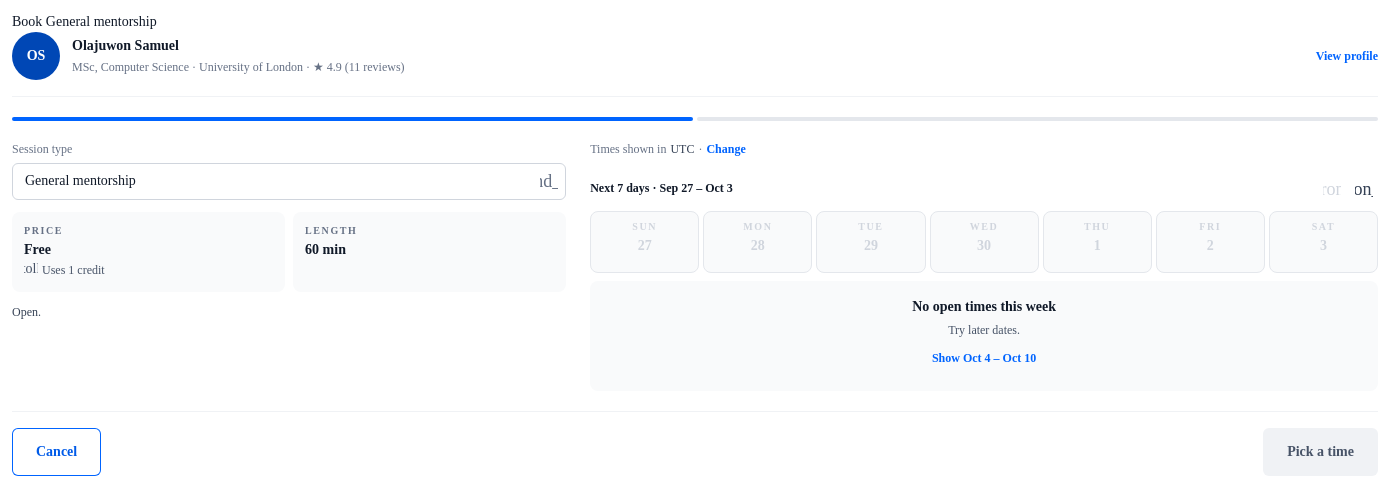
BookingFlow week view (7 days at a time) › opens on this week even when the first time is later, and ‹ › reach it
Expected: the text "No open times this week" is shown, [912,298,1056,318]
Click the button with aria-label "Later dates": [1364, 189] box [1350,175,1378,203]
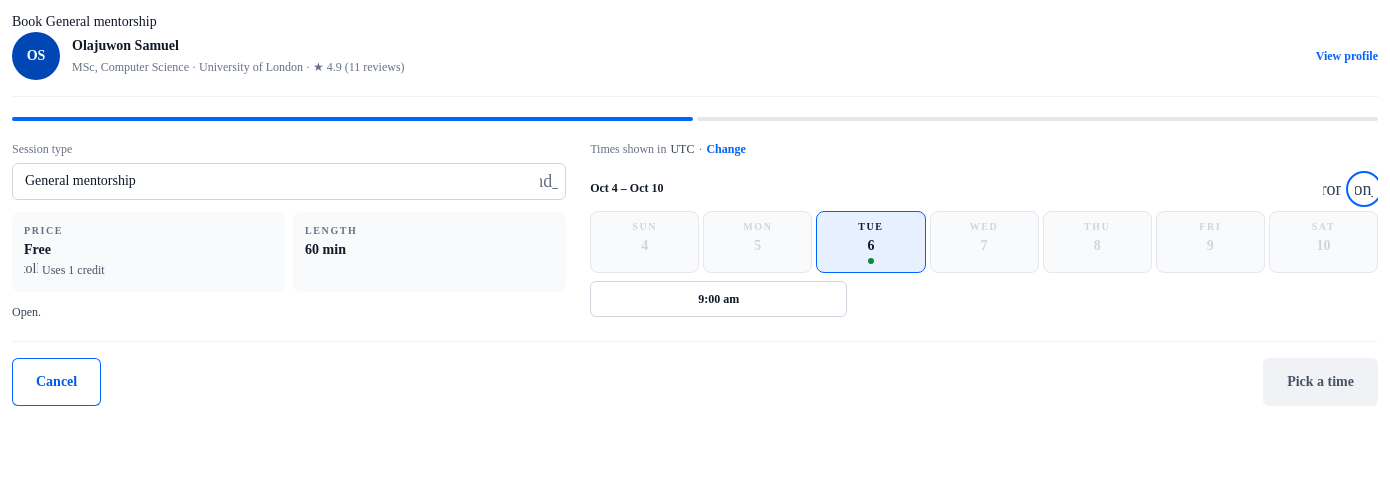
Now the text "Oct 4 – Oct 10" is shown, box [590,180,664,197]
Now the radio button with aria-label "Tue, Oct 6, 1 time" is checked, box [816,211,926,274]
Click the button with aria-label "Later dates": [1364, 189] box [1350,175,1378,203]
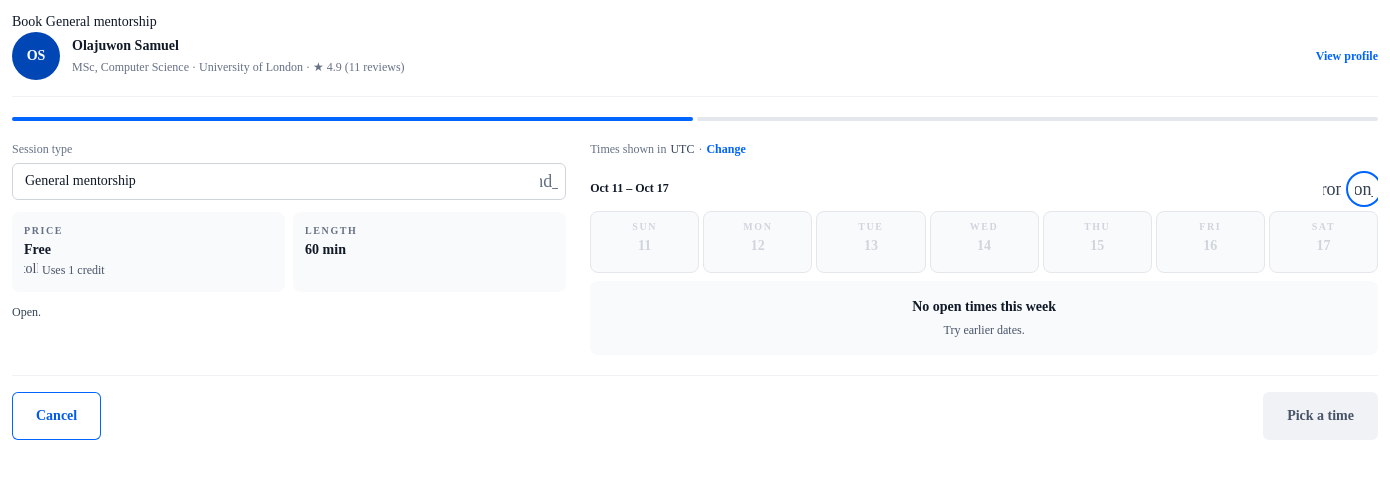
Click the button with aria-label "Later dates": [1364, 189] box [1350,175,1378,203]
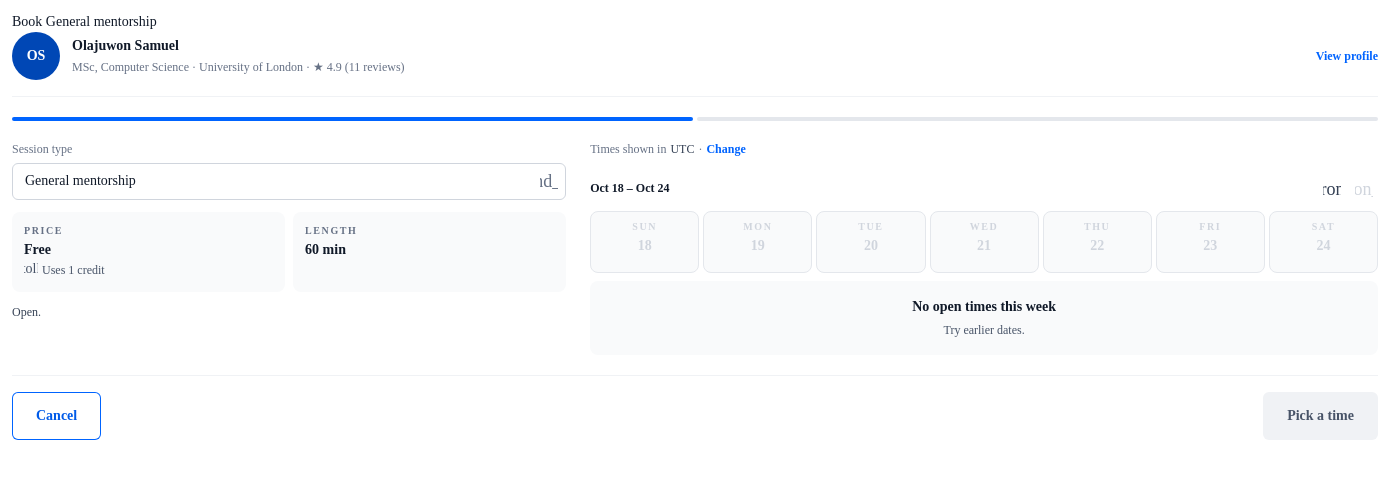
Now the button with aria-label "Later dates" is disabled, box [1350,175,1378,203]
